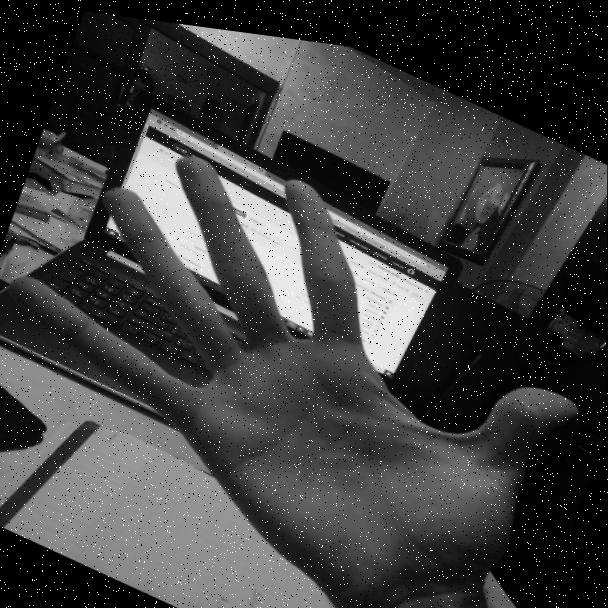five: (0, 59, 608, 608)
